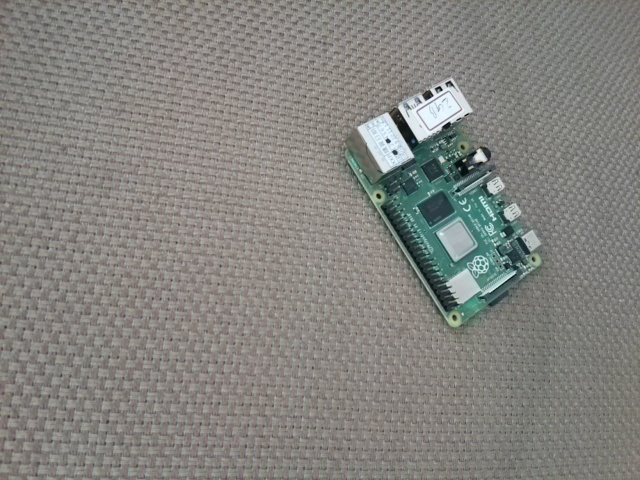Pi4: (337, 72, 547, 331)
